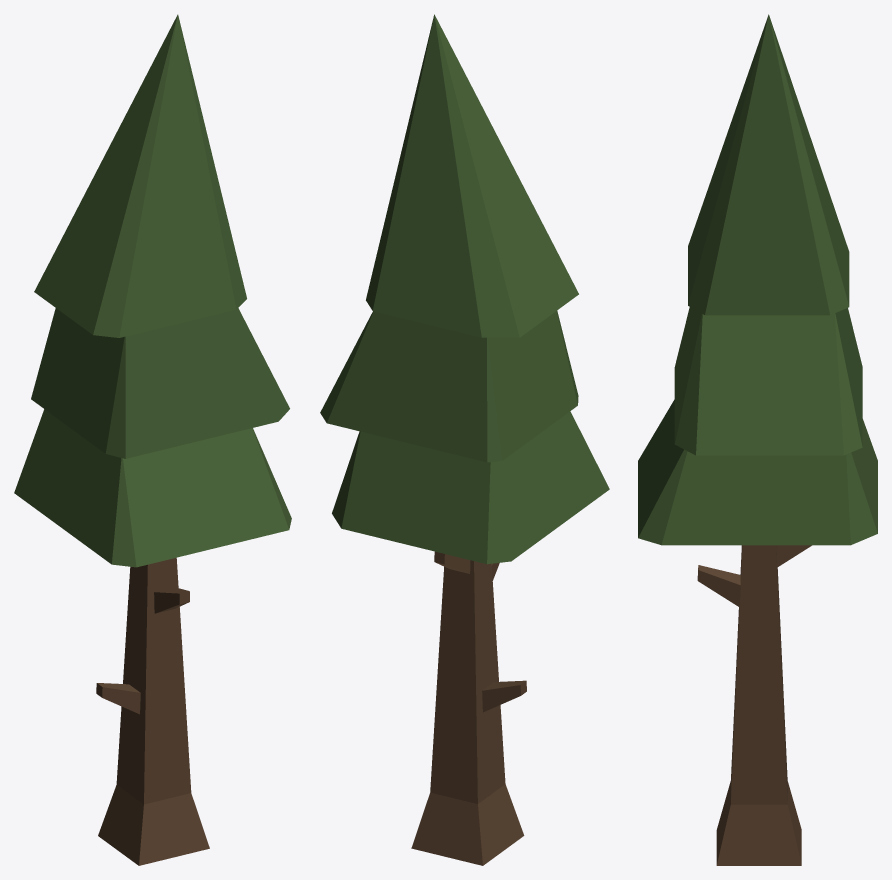
Rendered from tree-douglas-fir.glb.
3 renders of one model, left to right at view 1: azimuth 30°, elevation 25°; view 2: azimuth 150°, elevation 25°; view 3: azimuth 270°, elevation 25°, orthographic. The views are drawn at different scales.
Parts seen in each view (by area): view 1: tree_pineTallA_detailed; view 2: tree_pineTallA_detailed; view 3: tree_pineTallA_detailed.
Part boxes in pixels (left/top/right/bottom): tree_pineTallA_detailed: left=14, top=14, right=291, bottom=865; tree_pineTallA_detailed: left=320, top=14, right=609, bottom=865; tree_pineTallA_detailed: left=638, top=14, right=877, bottom=865.
Size of the model in its own units: 8.84 by 35 by 8.97.
